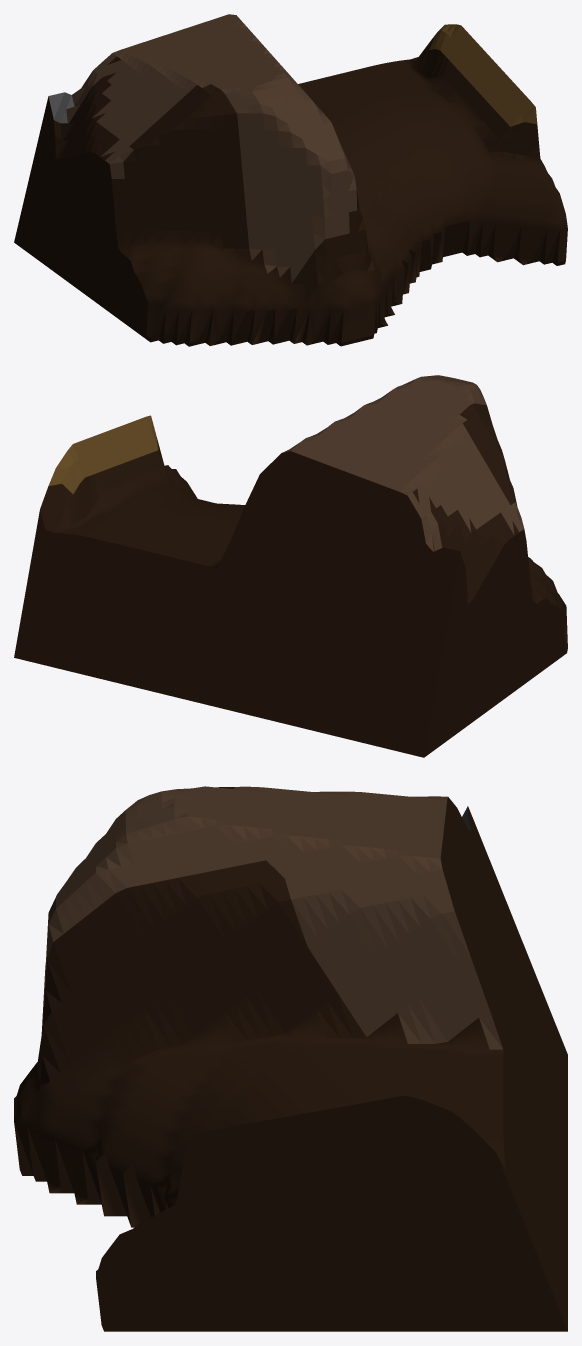
Rendered from ixm_cover_269.glb.
The picture shows the model from 3 angles, top to bottom: view 1: azimuth 30°, elevation 25°; view 2: azimuth 150°, elevation 25°; view 3: azimuth 270°, elevation 25°; orthographic projection. The views are drawn at different scales.
Parts seen in each view (by area): view 1: ixm_cover_269; view 2: ixm_cover_269; view 3: ixm_cover_269.
Part boxes in pixels (x1=…): ixm_cover_269: x1=14, y1=14, x2=567, y2=346; ixm_cover_269: x1=14, y1=375, x2=567, y2=757; ixm_cover_269: x1=14, y1=786, x2=567, y2=1331.
Size of the model in its own units: 24 by 13.59 by 20.3.
